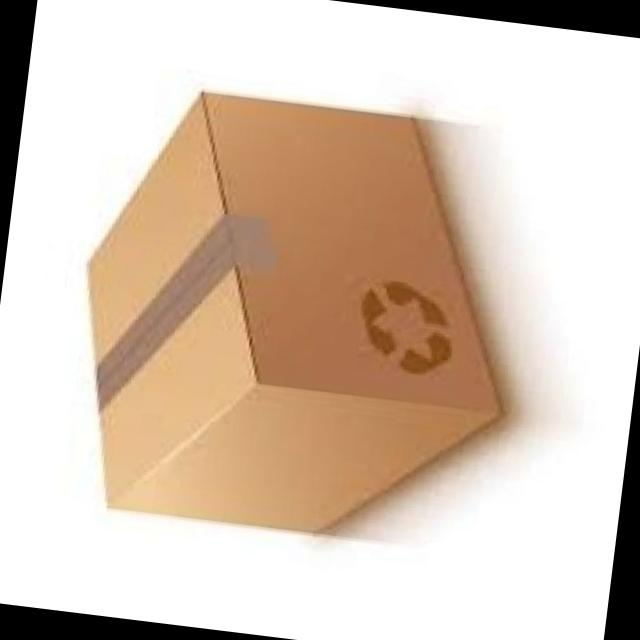cardboard paper: (87, 94, 496, 532)
